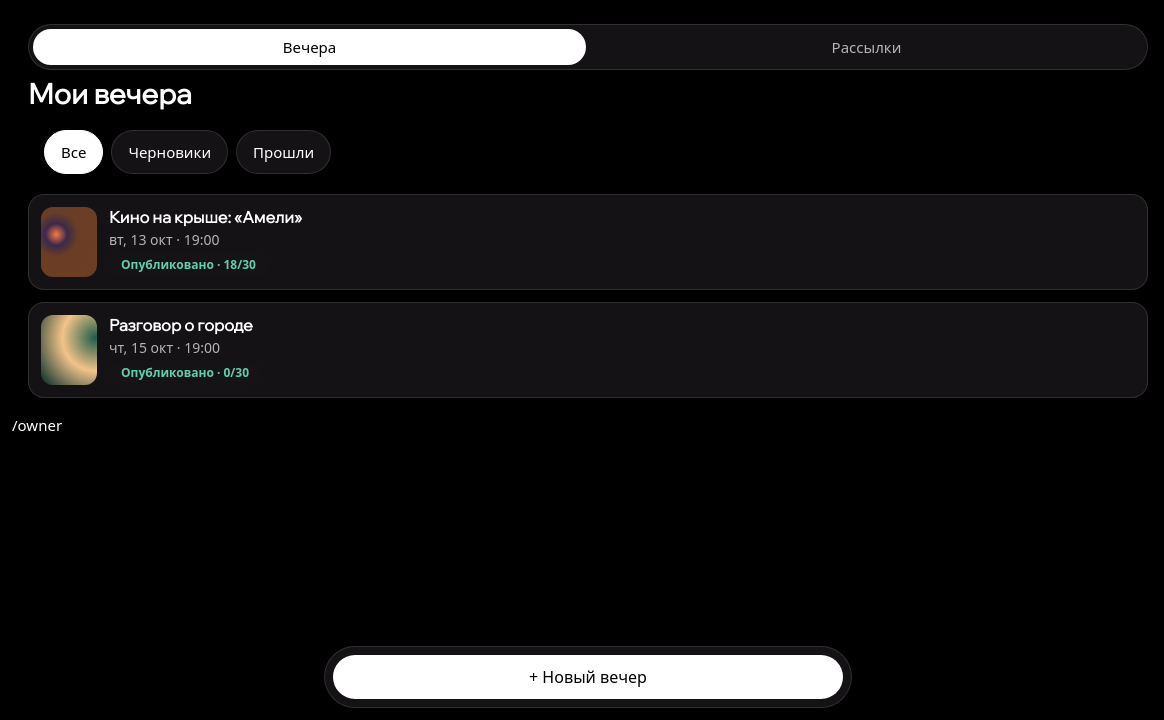
Test: OwnerEvents › says when there are no drafts
Click the radio button labelled "Черновики". click: (170, 152)
box: x1=111 y1=130 x2=228 y2=174
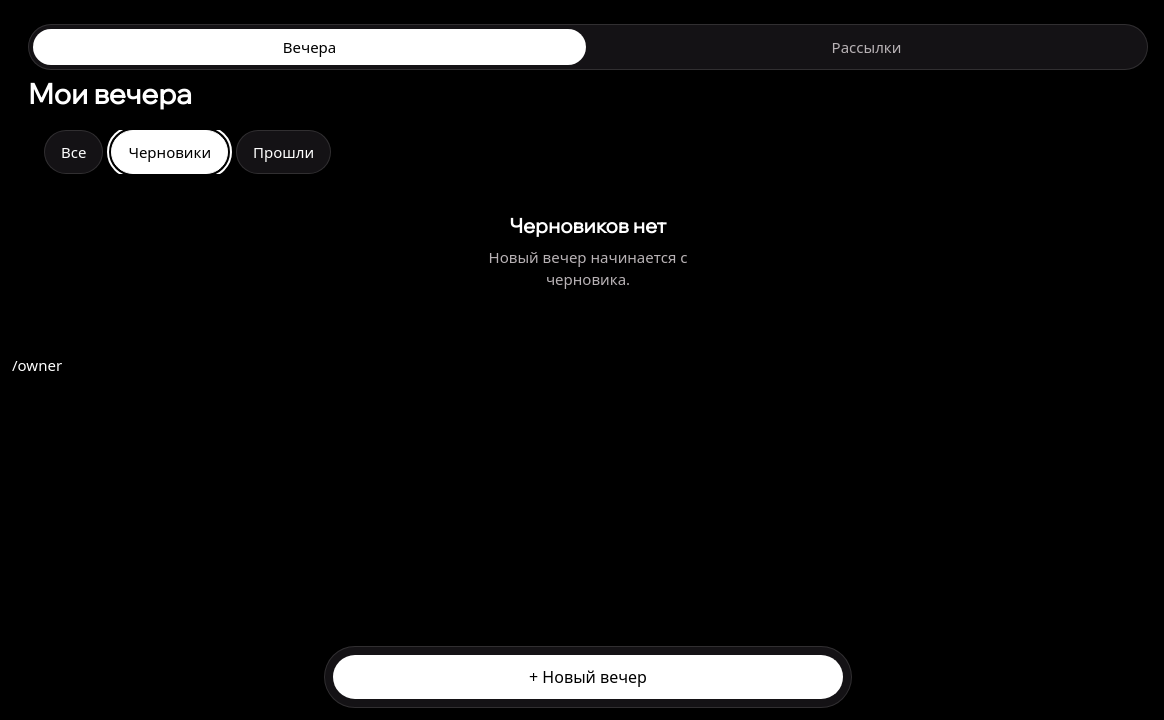
Expected: the heading "Черновиков нет" is shown, x1=510 y1=214 x2=666 y2=238
